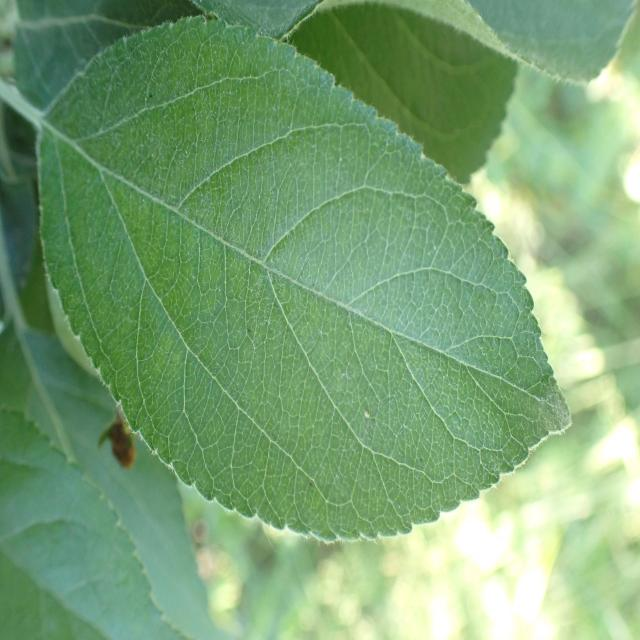healthy: (36, 14, 574, 544), (288, 0, 517, 185), (465, 0, 637, 87)
